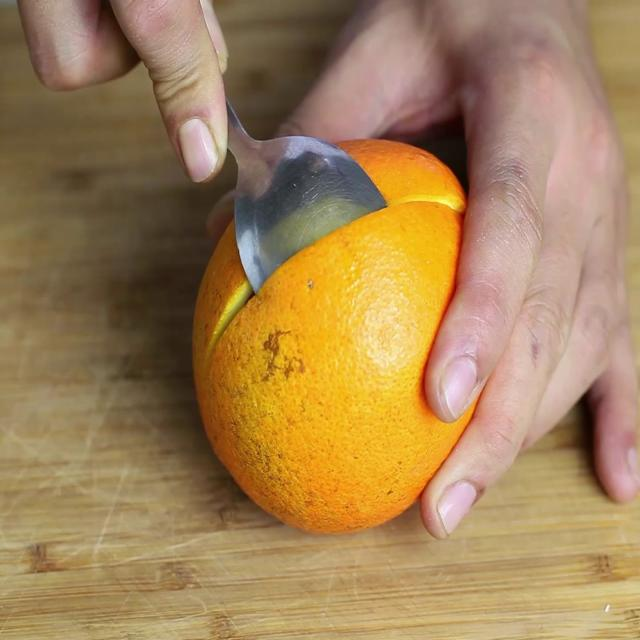orange: (188, 134, 492, 537)
